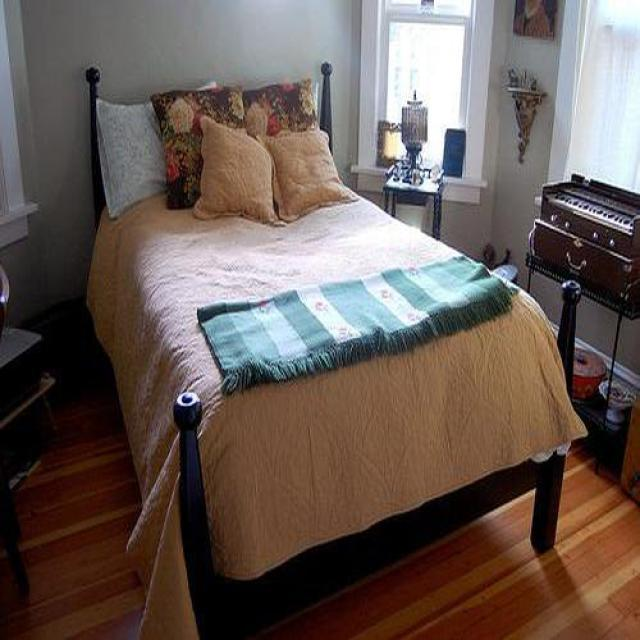bed: (86, 79, 586, 640)
